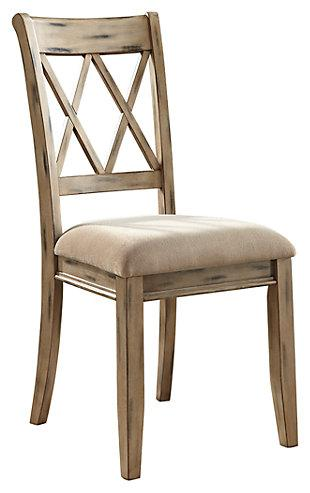chair: (8, 9, 310, 481)
